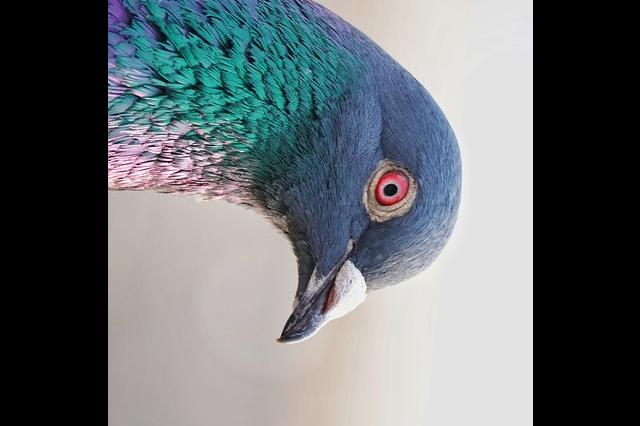Non_Gorille: (107, 0, 533, 393)
